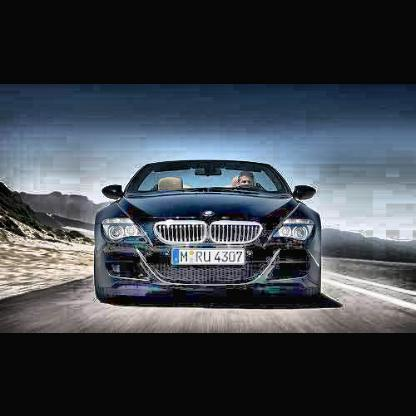BMW M6 Convertible 2010: (95, 162, 325, 311)
